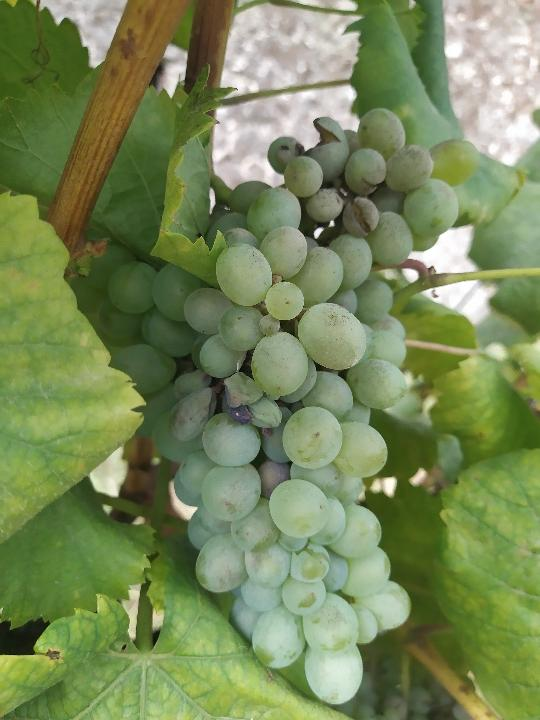grape: (104, 105, 461, 710)
